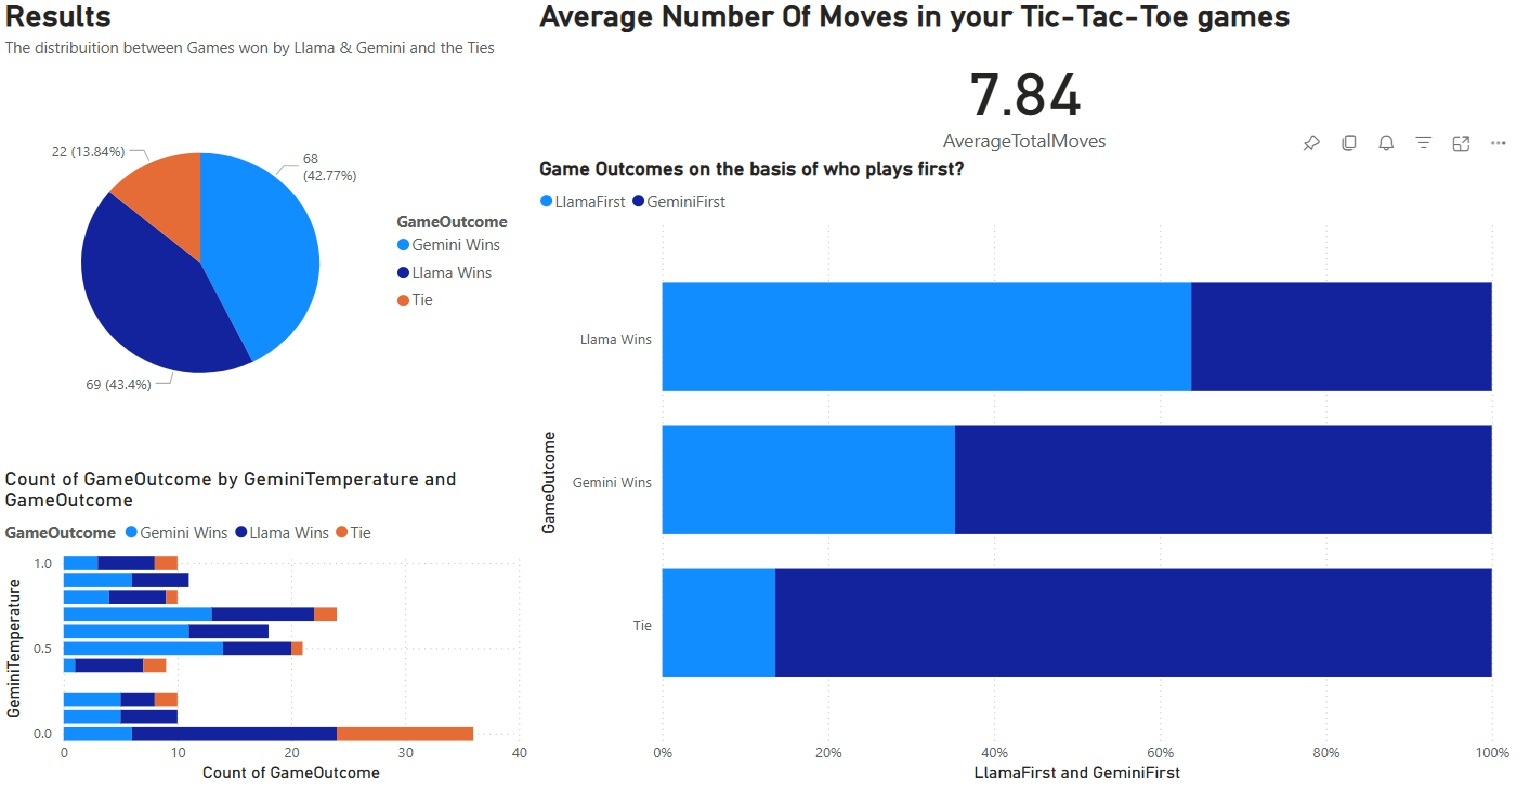

This screenshot's page, from the dashboard's own definition file:
{"tool":"powerbi","page":{"name":"Page 1","canvas":[1280,720],"ordinal":0},"visuals":[{"type":"pieChart","title":"Results","fields":{"Y":["game_results.GeminiWins","game_results.LlamaWins","game_results.Ties"],"Category":["game_results.GameOutcome"]},"box":[0,0,451.5,428.1],"z":0},{"type":"card","title":"Average Number Of Moves in your Tic-Tac-Toe games","fields":{"Values":["game_results.AverageTotalMoves"]},"box":[451.5,0,828.8,150.9],"z":1000},{"type":"hundredPercentStackedBarChart","title":"Game Outcomes on the basis of who plays first?","fields":{"Y":["game_results.LlamaFirst","game_results.GeminiFirst"],"Category":["game_results.GameOutcome"]},"box":[451.5,145.5,828.8,575],"z":2000},{"type":"barChart","fields":{"Category":["game_results.GeminiTemperature","game_results.LlamaTemperature"],"Y":["CountNonNull(game_results.GameOutcome)"],"Series":["game_results.GameOutcome"]},"box":[0,428,451,292],"z":3000}]}

Visuals, with their boxes on the page's 1280x720 design canvas (x1, y1, x2, y2). These are canvas units, not pixel positions in the 1530x791 screenshot, which may show the page scaled, cropped or inside an application window:
"Results" pieChart: pyautogui.locateOnScreen(0, 0, 452, 428)
"Average Number Of Moves in your Tic-Tac-Toe games" card: pyautogui.locateOnScreen(452, 0, 1280, 151)
"Game Outcomes on the basis of who plays first?" hundredPercentStackedBarChart: pyautogui.locateOnScreen(452, 146, 1280, 720)
barChart - game_results.GeminiTemperature x game_results.LlamaTemperature: pyautogui.locateOnScreen(0, 428, 451, 720)
